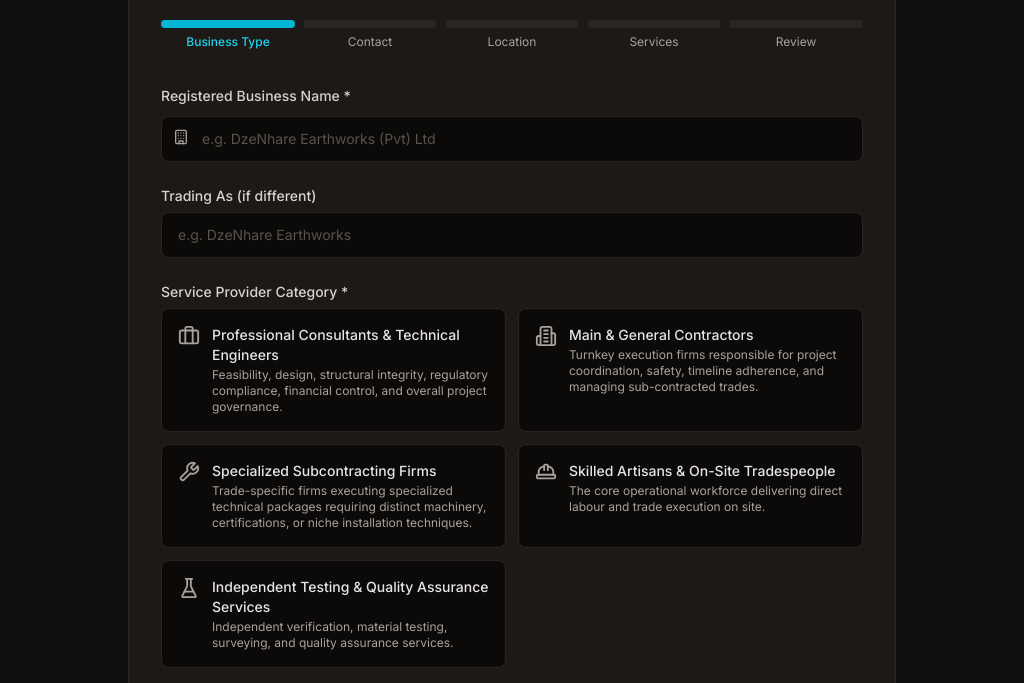
Test: ProviderRegistration — service provider matrix › requires a category before continuing
Type "Zvavanhu Engineers" into the field with placeholder "e.g. DzeNhare Earthworks (Pvt) Ltd" at (512, 139), box x1=161 y1=116 x2=863 y2=162
(page scrolled)
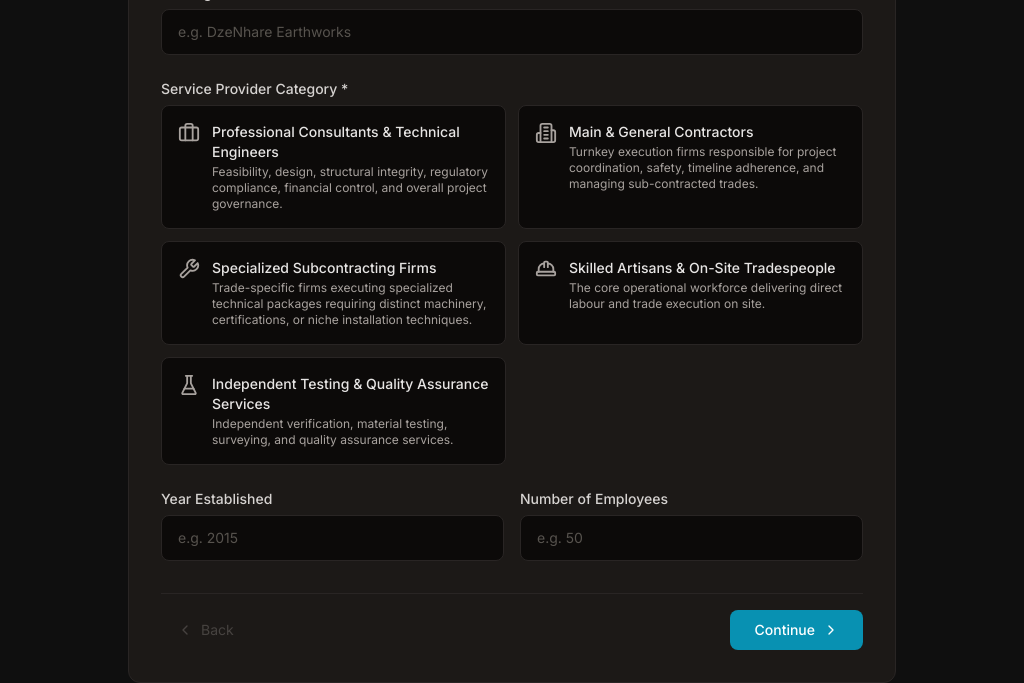
Click the button "Continue" at (797, 630), box x1=730 y1=610 x2=863 y2=650
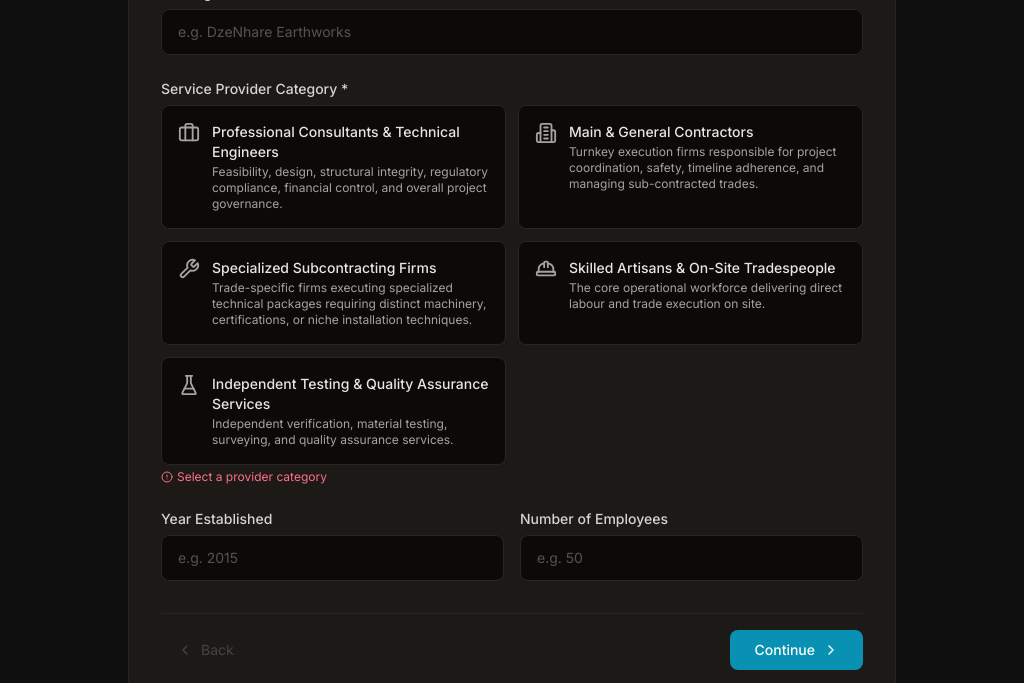
Expected: the text "Select a provider category" is shown, x1=161 y1=469 x2=327 y2=484
